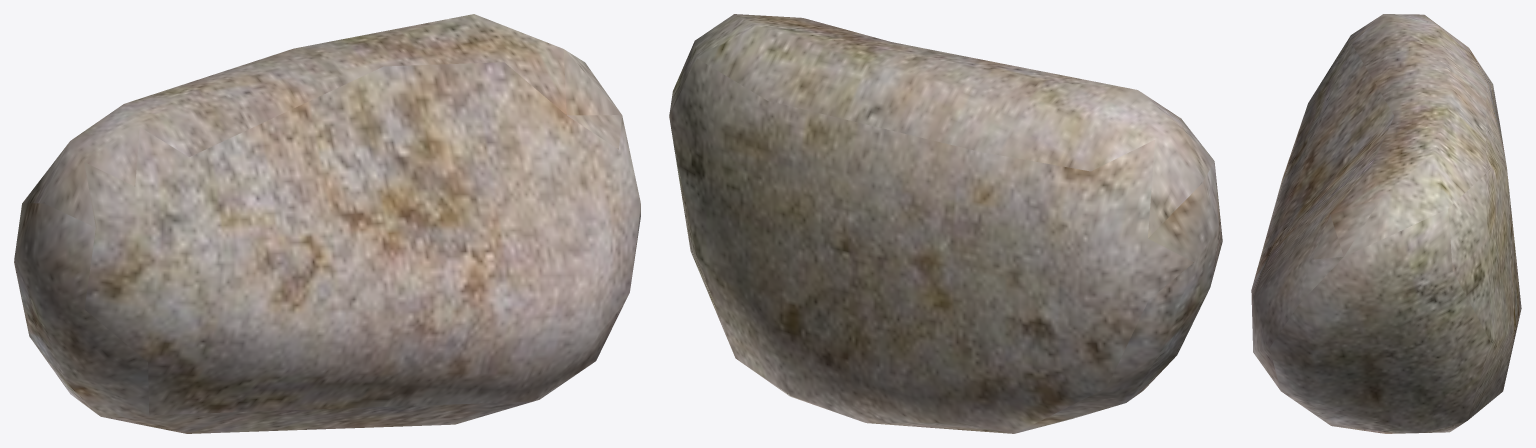
File: rock.glb
3 views of the same model, side by side, from view 1: azimuth 30°, elevation 25°; view 2: azimuth 150°, elevation 25°; view 3: azimuth 270°, elevation 25° (orthographic). The views are drawn at different scales.
Visible parts, largest first — view 1: rock081_lod4; view 2: rock081_lod4; view 3: rock081_lod4.
Boxes of the visible parts, left/top/right/bottom form: rock081_lod4: left=14, top=14, right=640, bottom=433; rock081_lod4: left=669, top=14, right=1222, bottom=433; rock081_lod4: left=1251, top=14, right=1521, bottom=433.
Size of the model in its own units: 1 by 0.6378 by 0.5208.
Materials: 1 (1 with a texture image).
